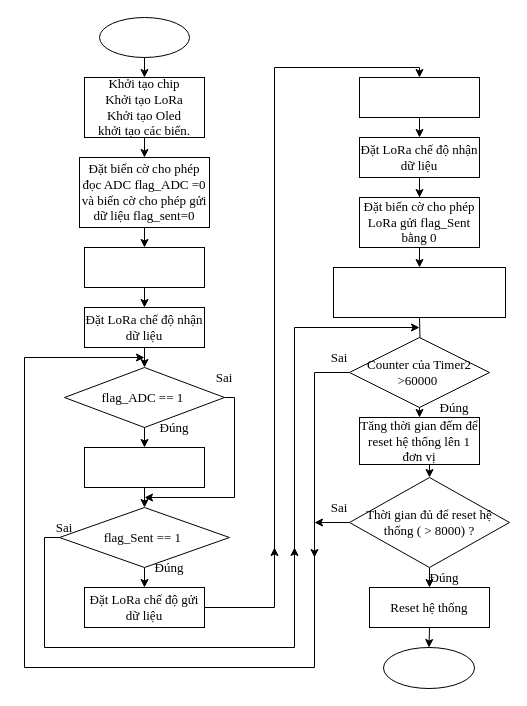
Some shapes in this 527 by 706 pixel diagram are drawn without their labels. The shapes that lost their labels are listed below. From the top down, each one's centre as x and y in pixels, then its label:
(144,37): Begin
(419,97): LoRa gửi dữ liệu
(144,267): Đặt Counter Timer 2 về 0
(419,292): Đặt counter timer 2 về 0 và đặt biến điếm thời gian reset về 0
(144,467): Bắt đầu thực hiện ngắt ADC
(428,667): End
